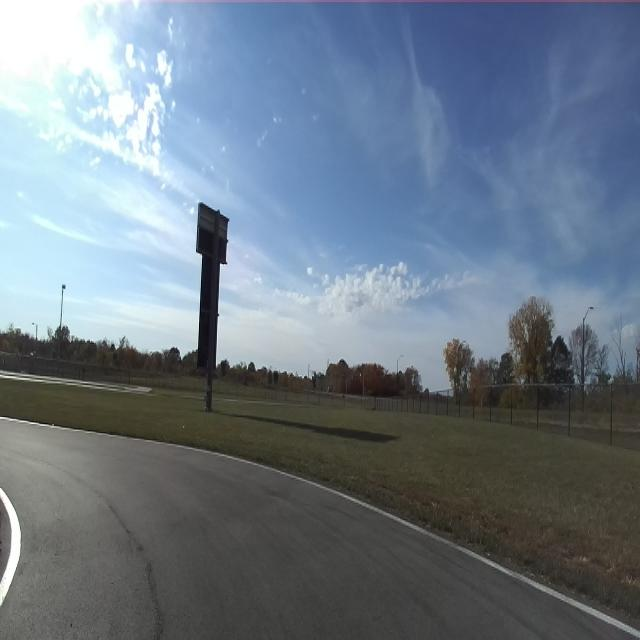white-line: (83, 431, 640, 639), (0, 487, 21, 606), (0, 417, 80, 430)
